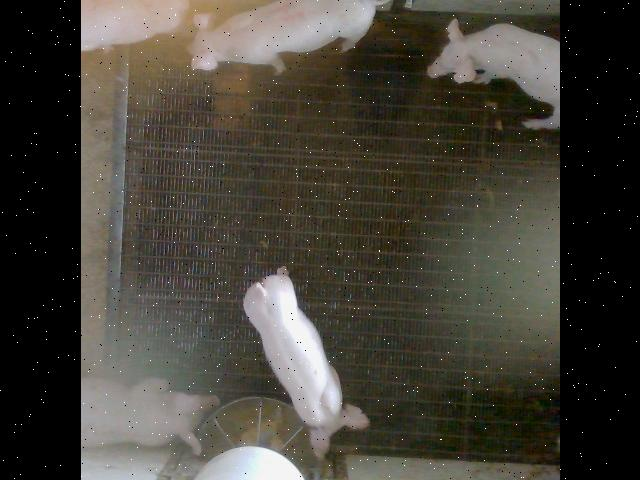pig-4: (189, 0, 386, 72)
